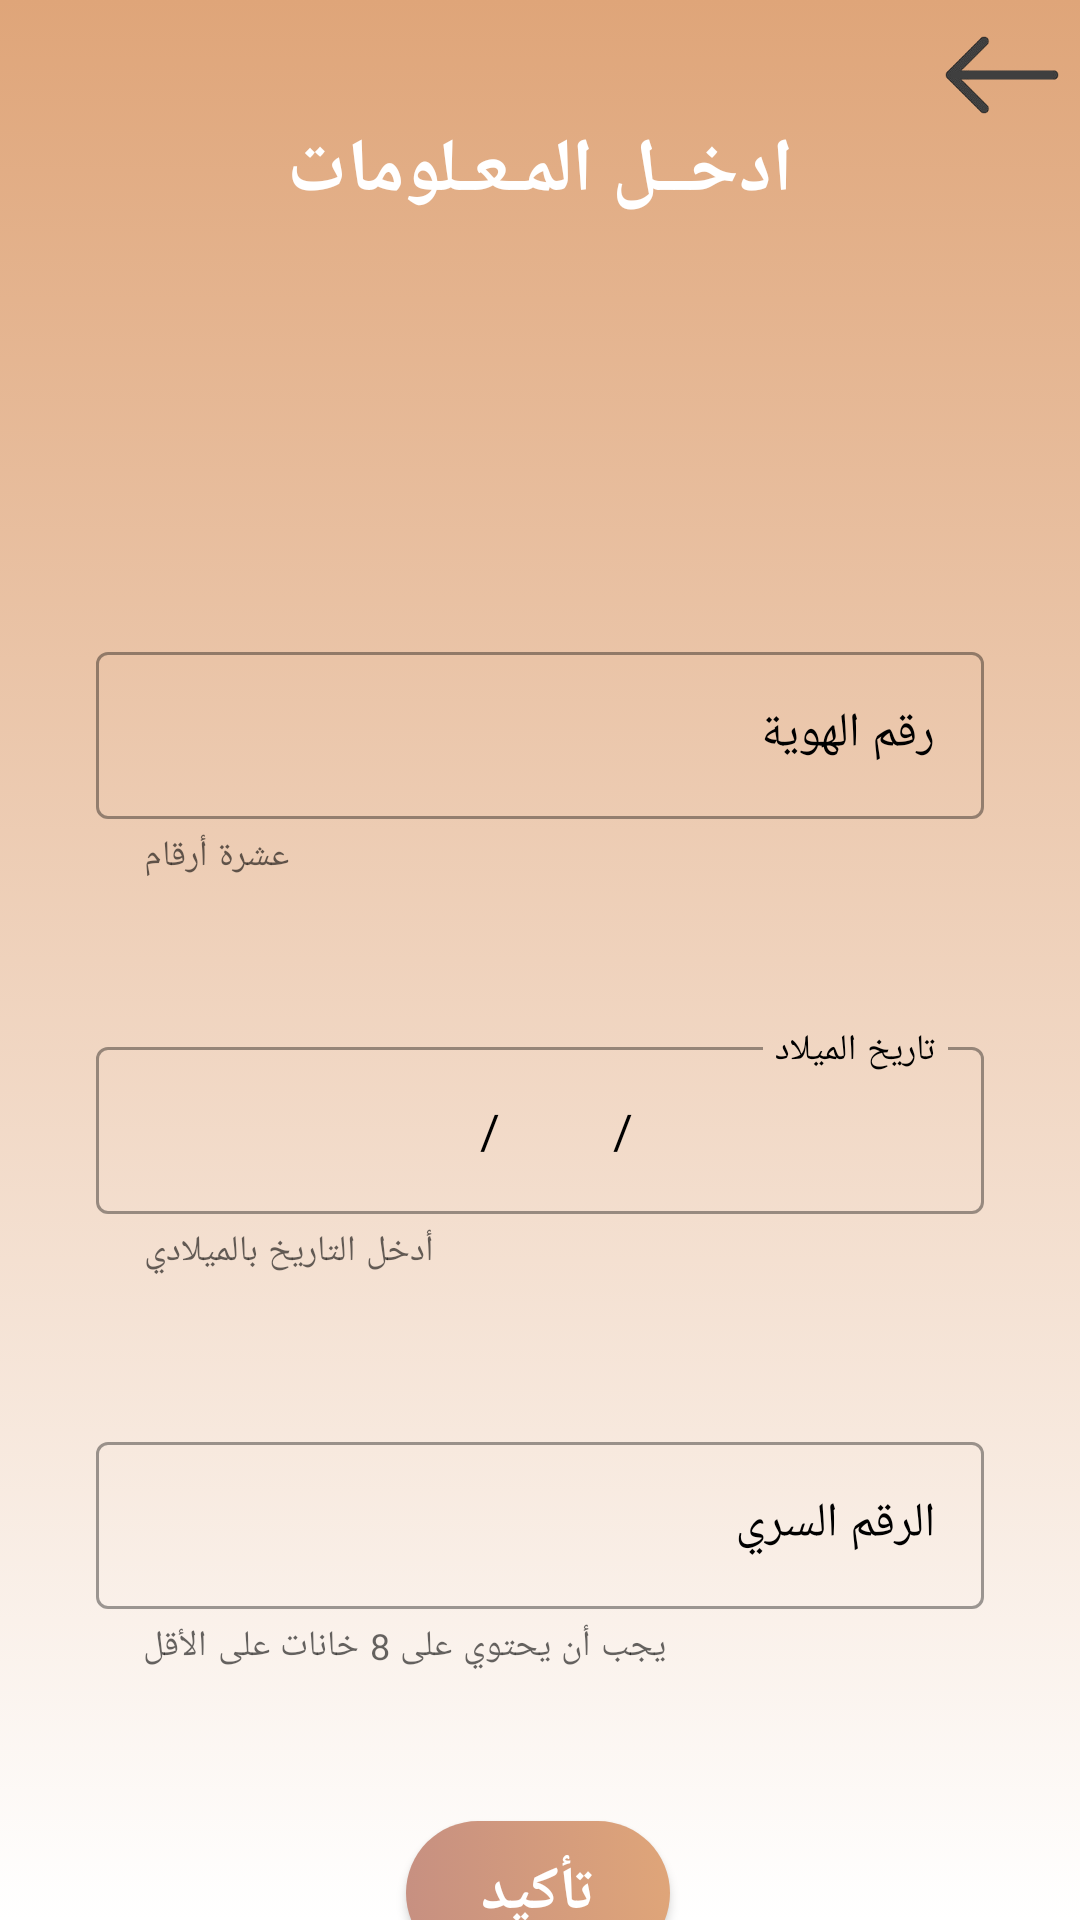

Icons on this 1080 × 1920 Android screen, each with its box as box(x1, y1, x2, y2):
back: box(945, 36, 1059, 114)
